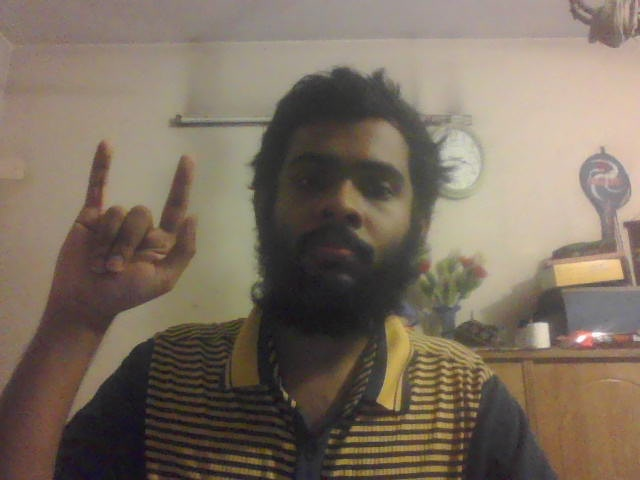I Love You: (43, 140, 219, 306)
